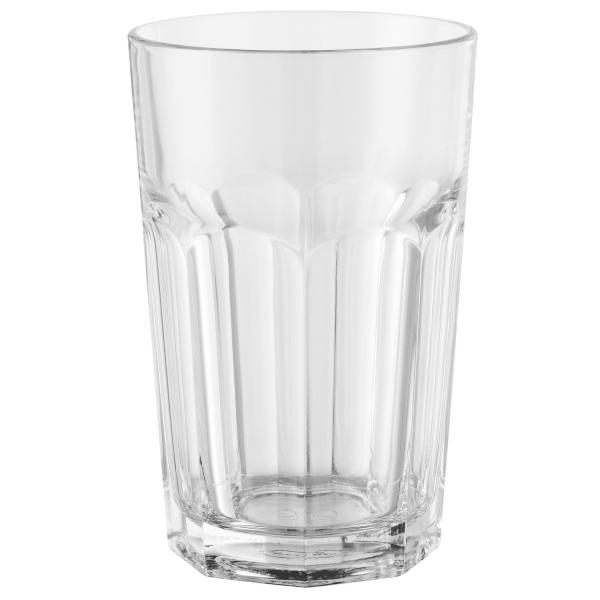glass: (126, 8, 480, 587)
